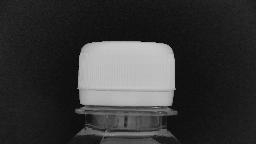Good Cap: (69, 36, 183, 118)
